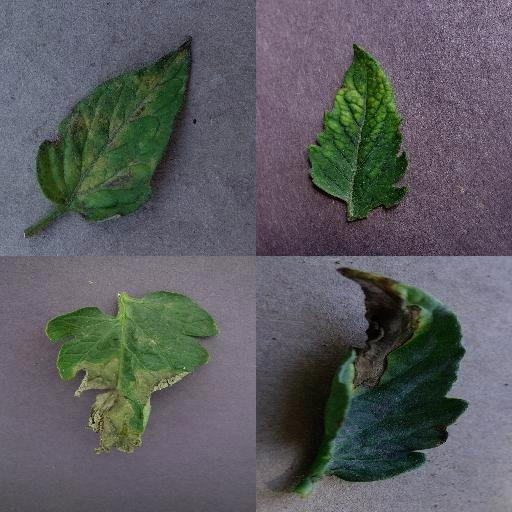Early Blight: (314, 263, 468, 479)
Late Blight: (47, 292, 221, 456)
Leaf Mold: (36, 37, 192, 223)
Mosaic Virus: (307, 43, 411, 213)
